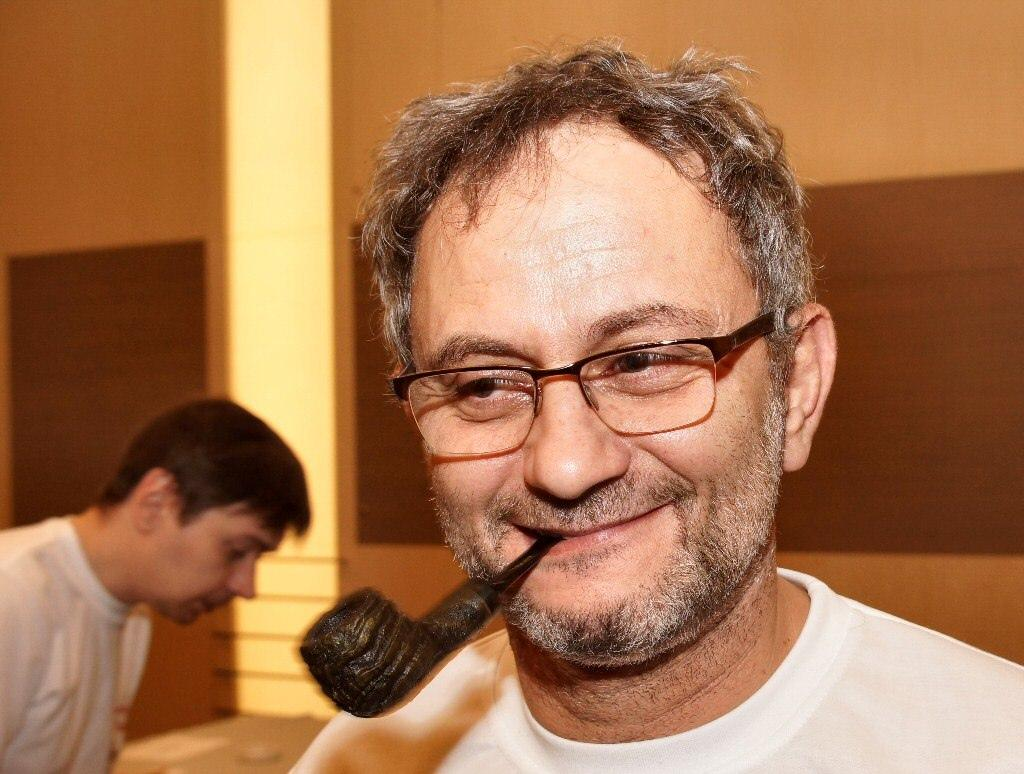trubka: (300, 538, 555, 717)
